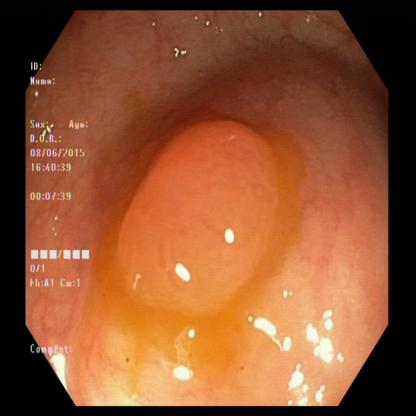Labels: (24, 57, 90, 361)
Polyps: (112, 136, 285, 304)
